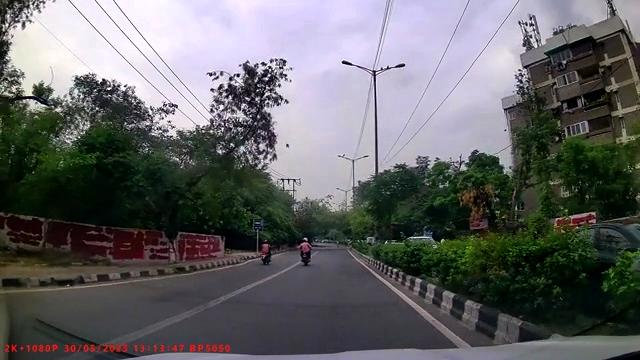motorcycle_with_helmet: (299, 237, 312, 266)
